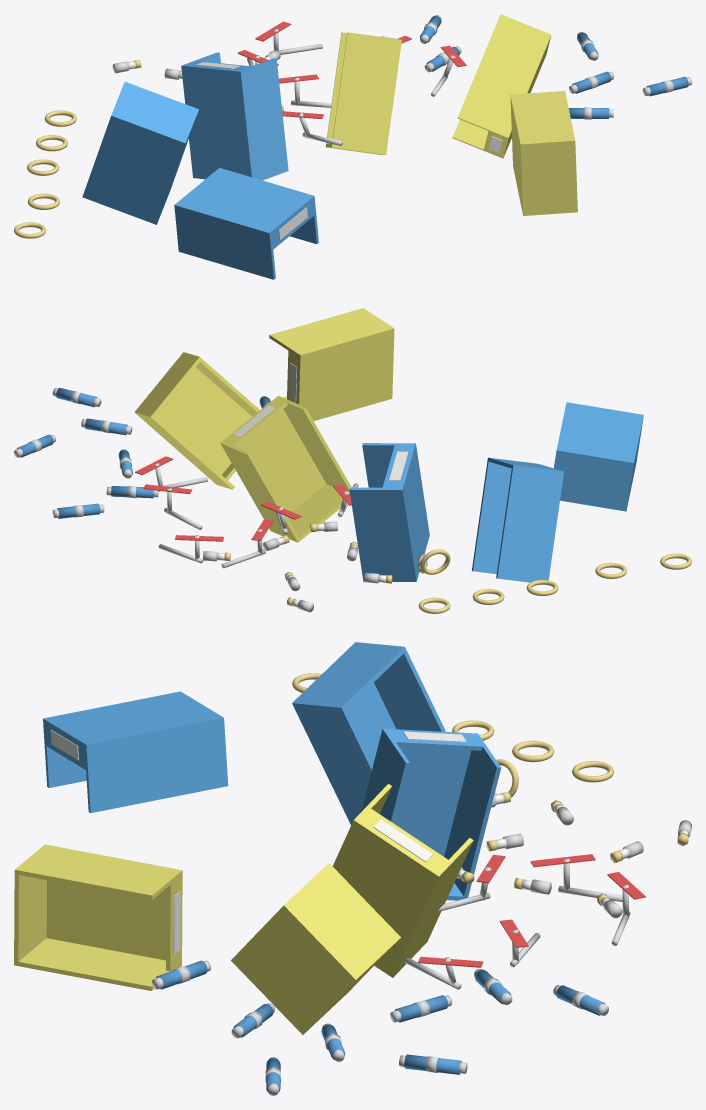
The model's file is aircraftpartsSpilled.fbx.
The picture shows the model from 3 angles, top to bottom: view 1: azimuth 30°, elevation 25°; view 2: azimuth 150°, elevation 25°; view 3: azimuth 270°, elevation 25°; orthographic projection. The views are drawn at different scales.
Visible parts, largest first — view 1: Hazard_Spilled_Aircraft_Parts_Assembly; view 2: Hazard_Spilled_Aircraft_Parts_Assembly; view 3: Hazard_Spilled_Aircraft_Parts_Assembly.
Part boxes in pixels (x1,y1,x2,y2): Hazard_Spilled_Aircraft_Parts_Assembly: (14,14,691,279); Hazard_Spilled_Aircraft_Parts_Assembly: (14,308,691,613); Hazard_Spilled_Aircraft_Parts_Assembly: (14,642,691,1095).
Size of the model in its own units: 249 by 49.13 by 170.
